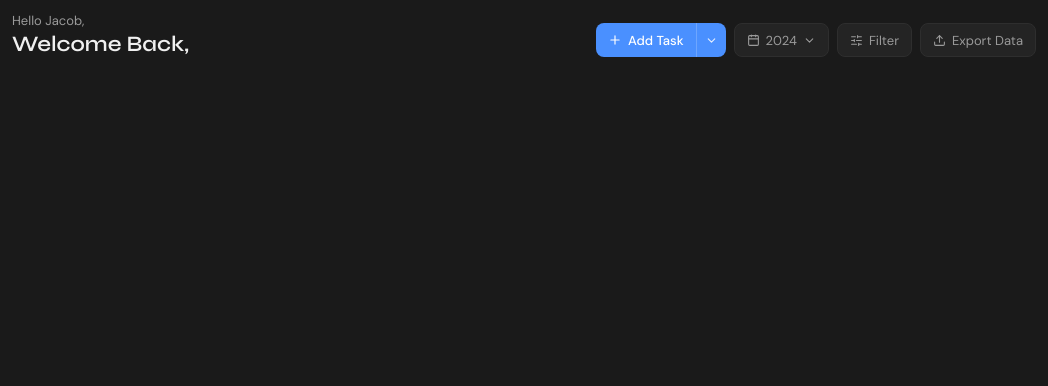
Test: DashboardHeader › closes the filter panel after clicking Apply
The image size is (1048, 386).
Step 1. Click the button "Filter" → (874, 40), box top-left (837, 23), bottom-right (912, 57)
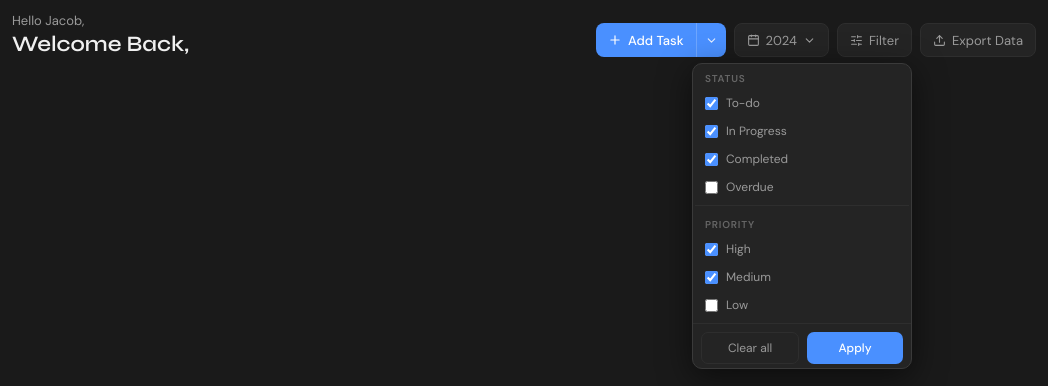
Step 2. Click the button "Apply" → (855, 348), box top-left (807, 332), bottom-right (903, 364)
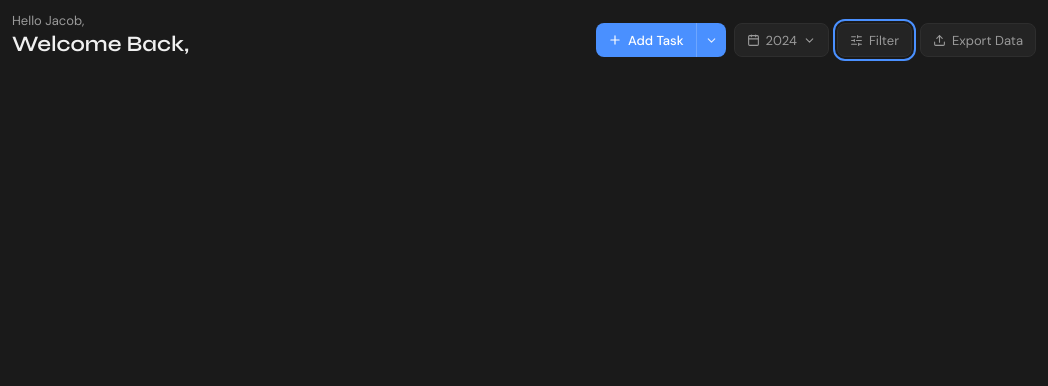
Expected: the button "Apply" is gone
